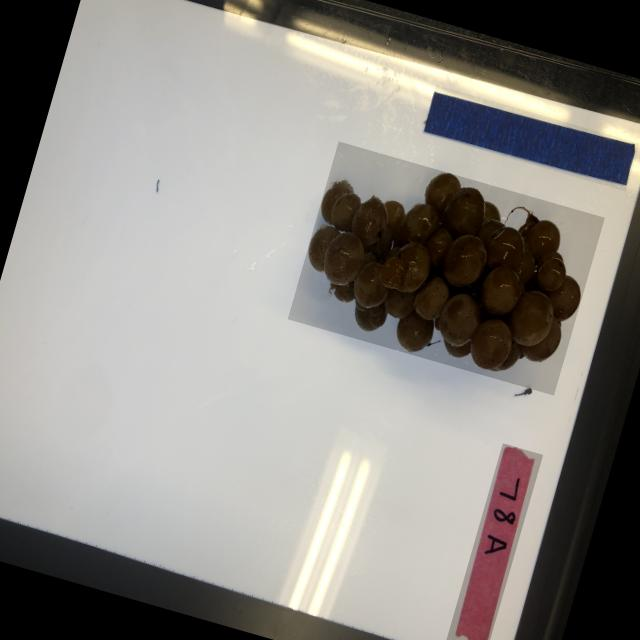grape_cluster: (286, 141, 603, 395)
index: (444, 442, 541, 640)
measure_label: (421, 84, 638, 190)
